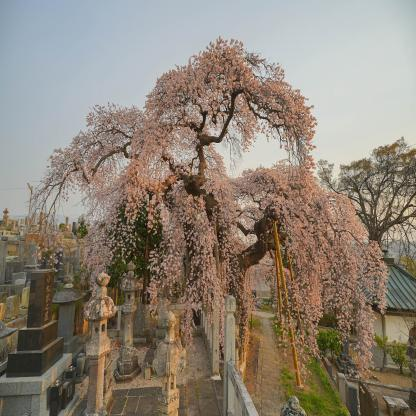ShidareZakura: (25, 33, 390, 416)
